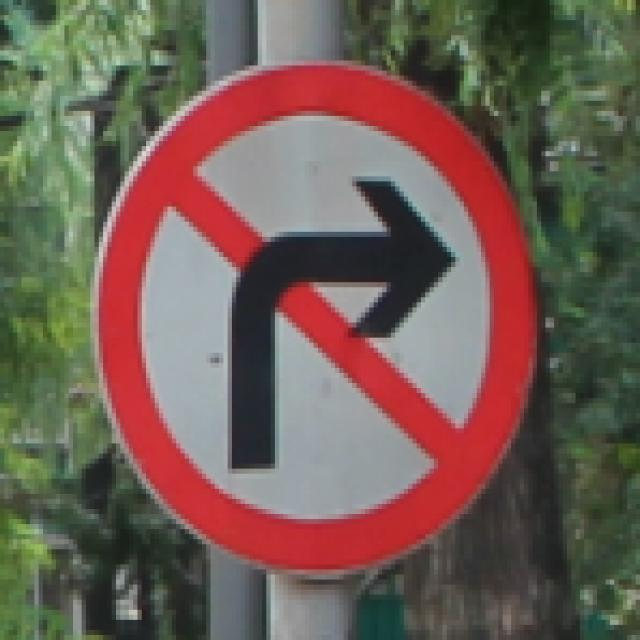Not that Direction: (86, 56, 522, 576)
